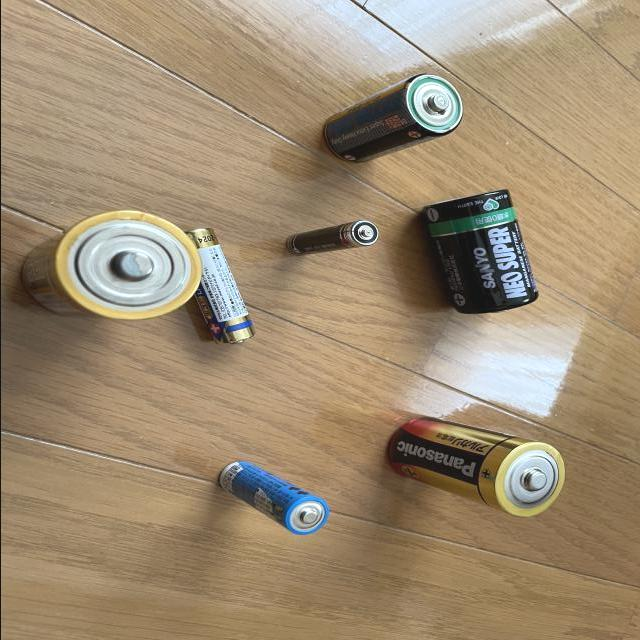AA: (173, 223, 260, 349), (212, 458, 332, 539)
AAA: (282, 215, 378, 265)
